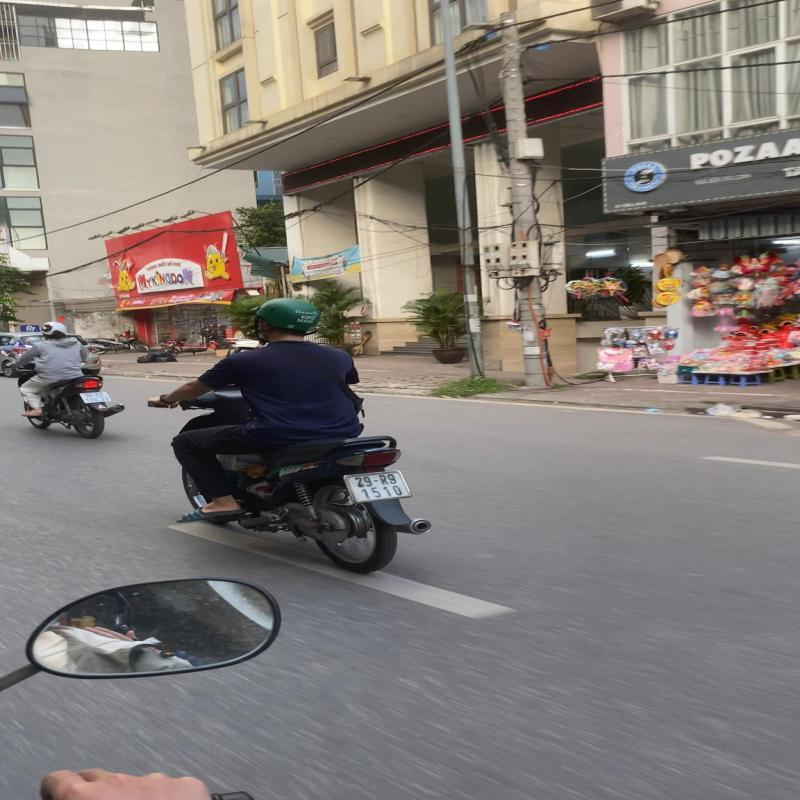helmet: (252, 296, 322, 340)
licenseplate: (342, 468, 418, 506)
motorcyclist: (145, 294, 431, 583)
